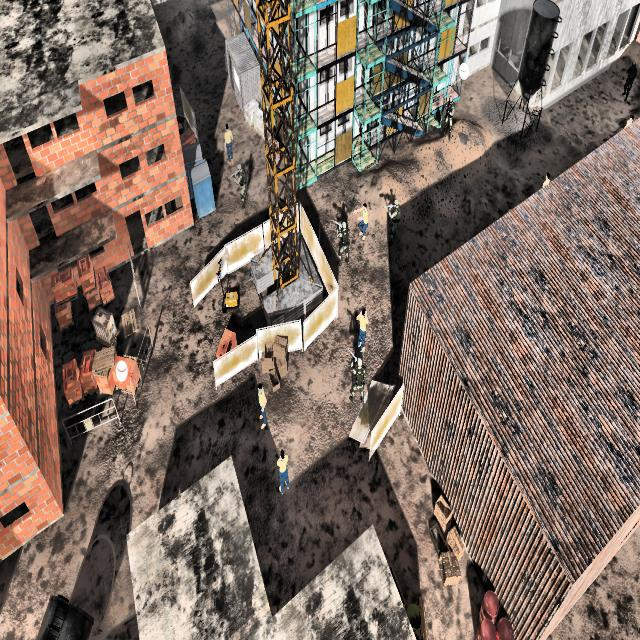bad: (333, 208, 353, 270), (349, 351, 368, 406), (620, 53, 639, 105), (231, 161, 250, 213), (441, 88, 456, 151), (387, 194, 404, 247)
good: (349, 296, 370, 355), (272, 447, 292, 497), (257, 377, 271, 448), (354, 193, 370, 247), (223, 118, 236, 168), (542, 171, 550, 191), (622, 114, 632, 124)
